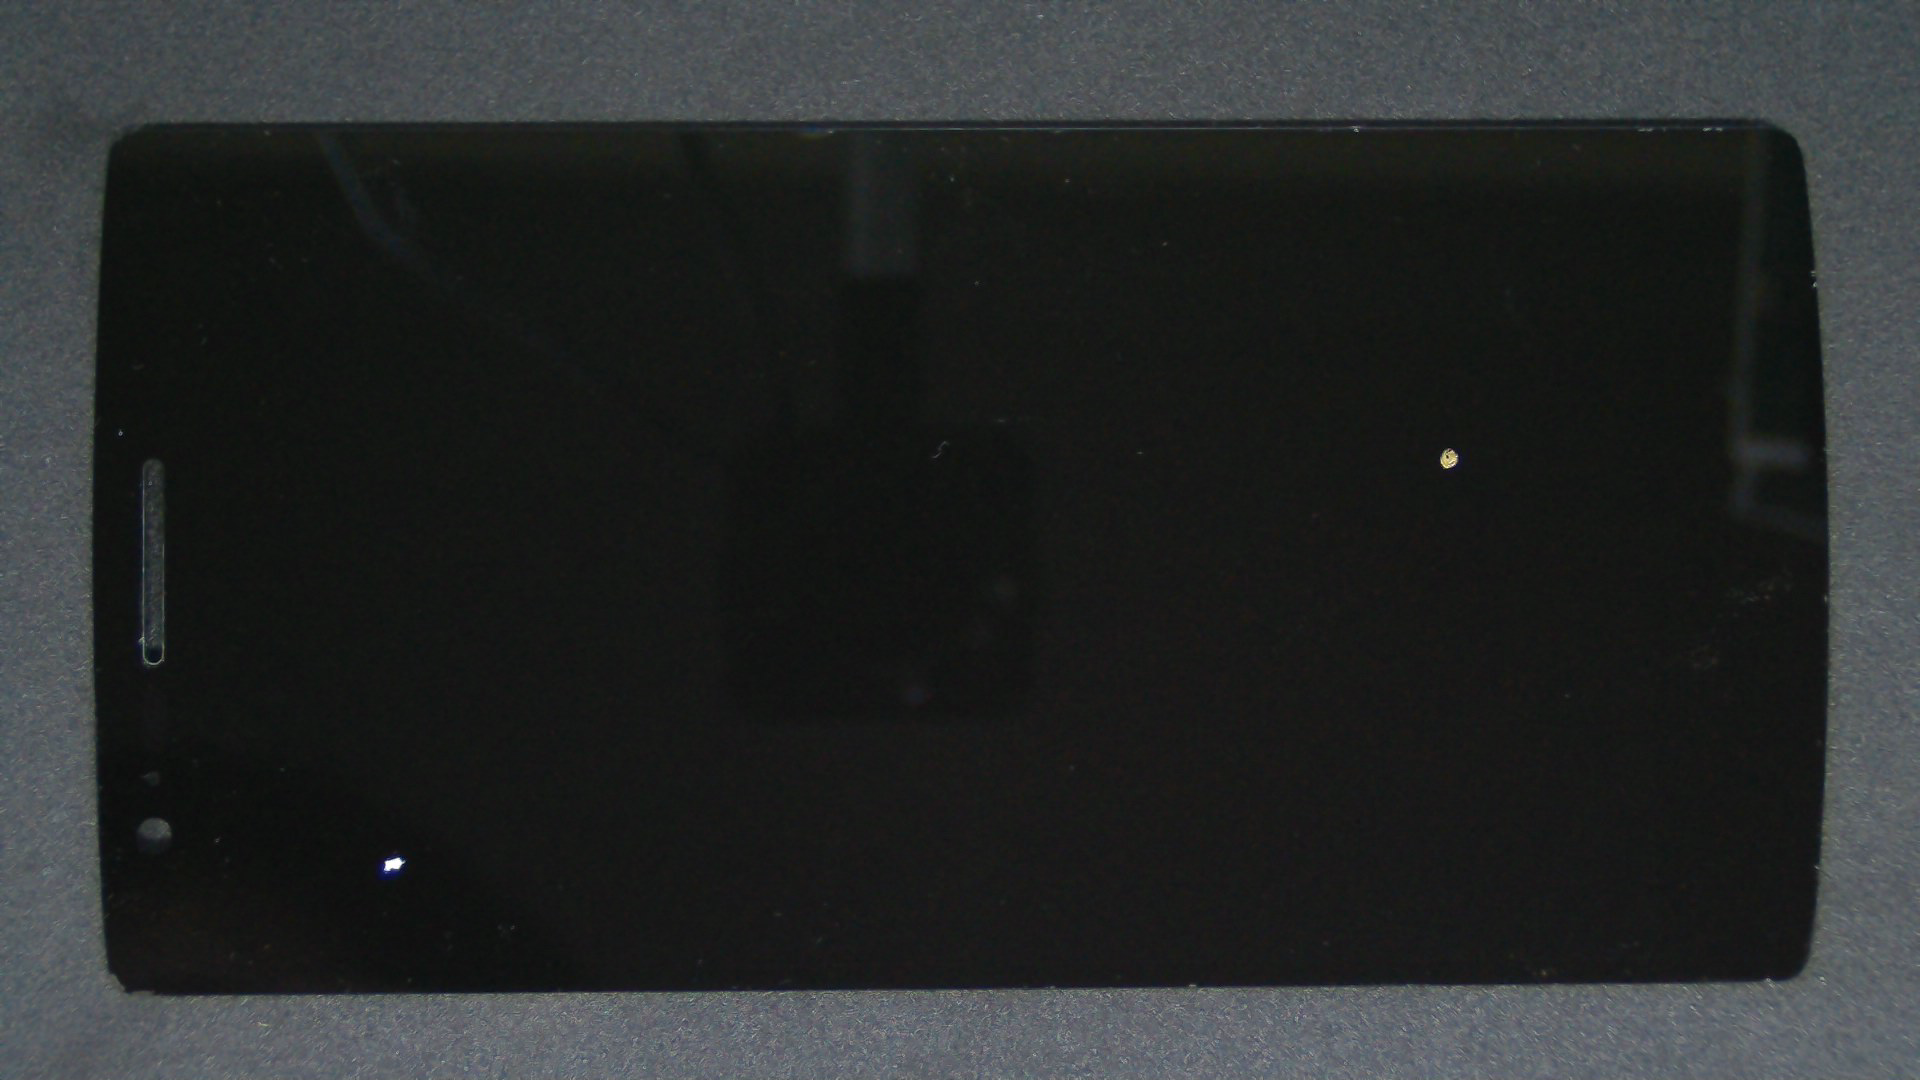defect: (380, 853, 409, 873), (1437, 446, 1460, 471)
